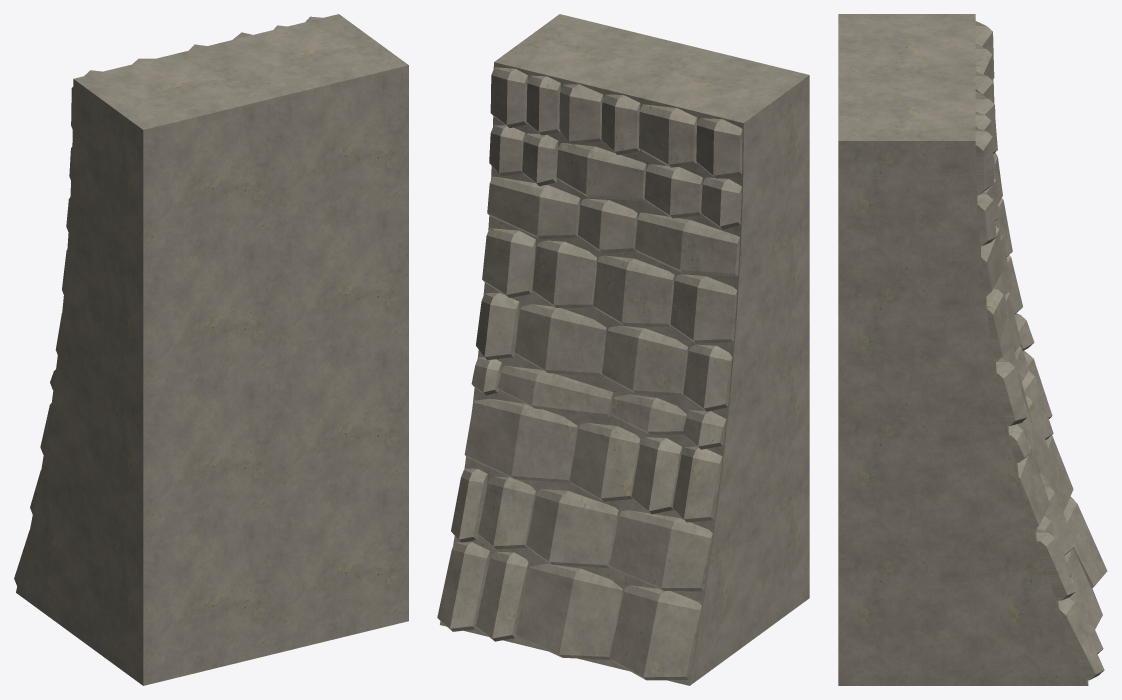
The model's file is HO_Wall_Ishigaki_Straight_8.fbx.
3 renders of one model, left to right at view 1: azimuth 30°, elevation 25°; view 2: azimuth 150°, elevation 25°; view 3: azimuth 270°, elevation 25°, orthographic. The views are drawn at different scales.
Visible parts, largest first — view 1: HO_Wall_Ishigaki_Straight_8; view 2: HO_Wall_Ishigaki_Straight_8; view 3: HO_Wall_Ishigaki_Straight_8.
Boxes of the visible parts, x1,y1,x2,y2 form: HO_Wall_Ishigaki_Straight_8: (14, 14, 408, 685); HO_Wall_Ishigaki_Straight_8: (437, 14, 809, 685); HO_Wall_Ishigaki_Straight_8: (838, 14, 1107, 685).
Bounding box in the file's own units: 8 × 16 × 7.16.
